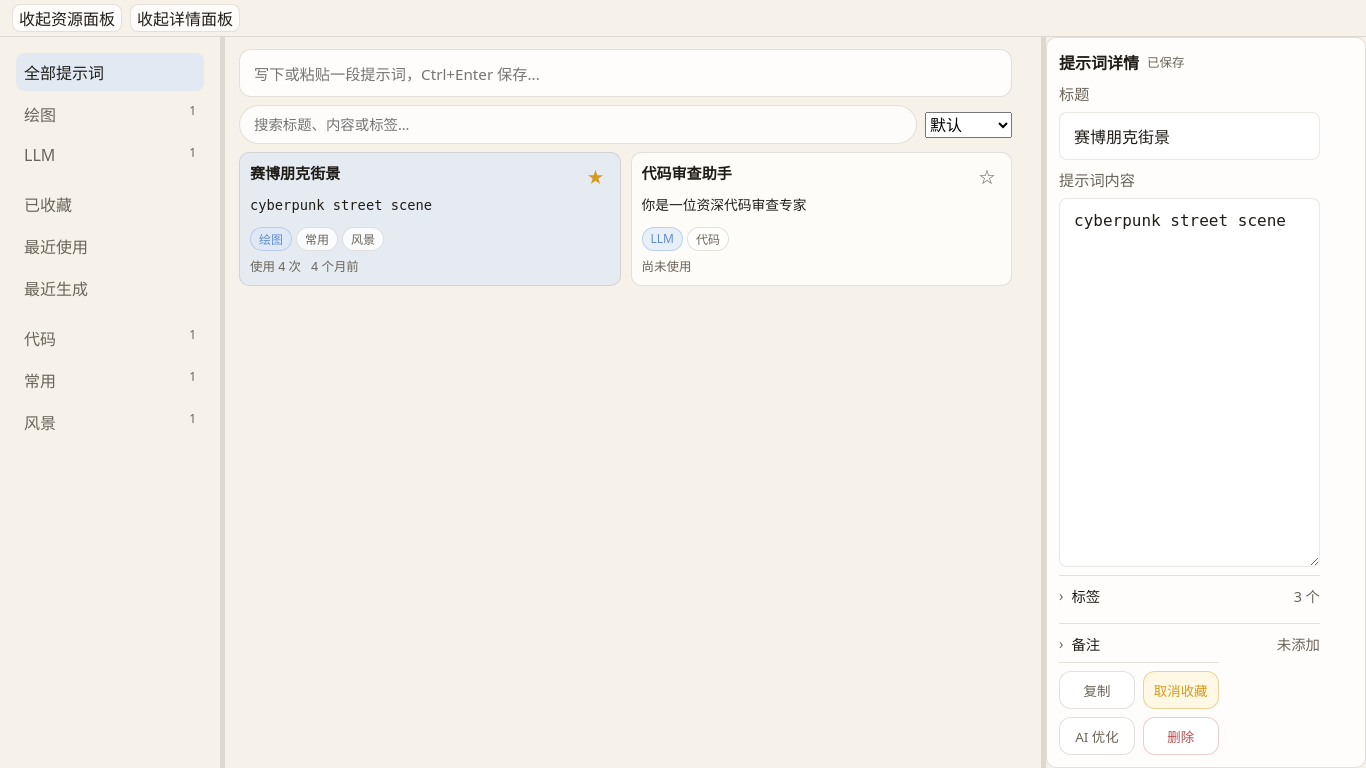
it: Library › shows only favorite prompts when favorite mode is selected
Expected: the button "赛博朋克街景" is shown, 250,163 -> 576,275
Expected: the button "代码审查助手 你是一位资深代码审查专家 LLM 代码 尚未使用" is shown, 642,163 -> 967,275
Click the button "已收藏".
click(110, 204)  # box 16,185 -> 204,223
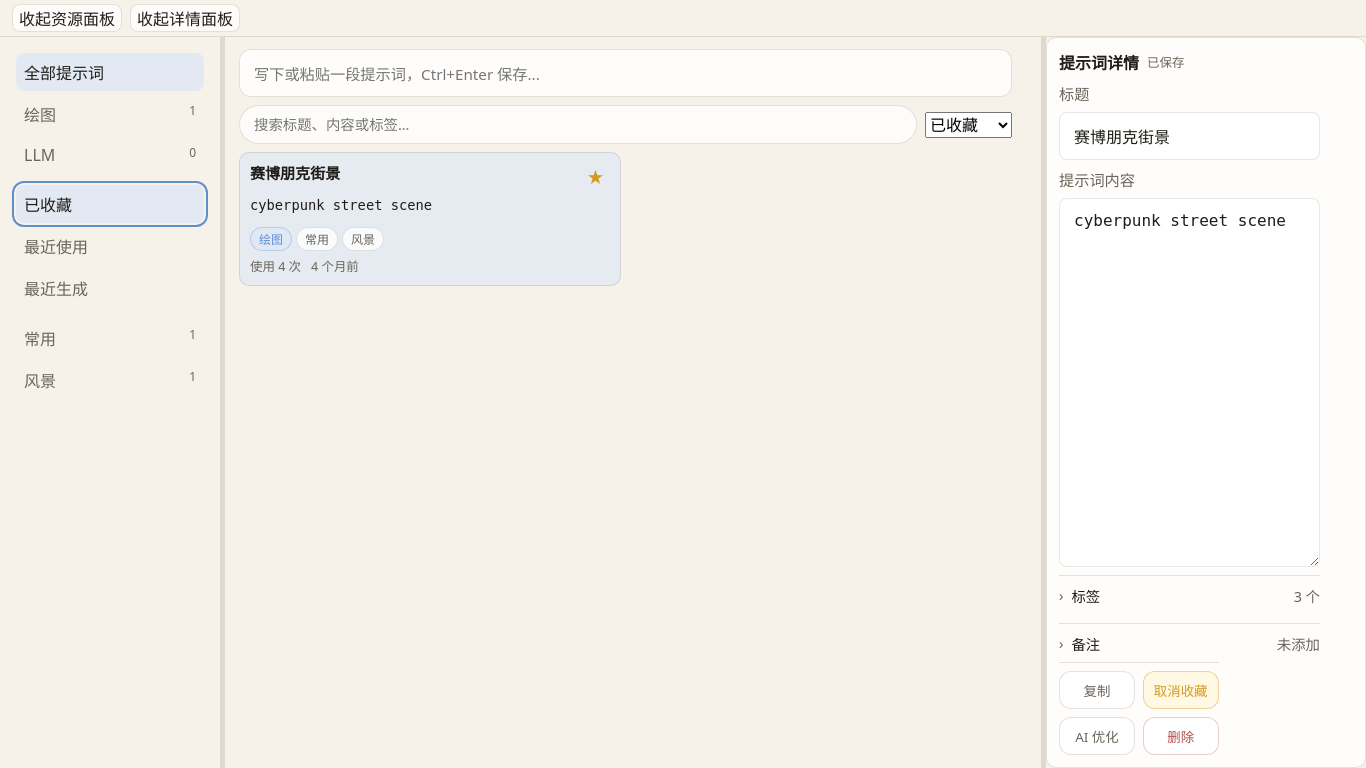
Expected: the button "赛博朋克街景" is shown, 250,163 -> 576,275
Expected: the button "代码审查助手" is gone
